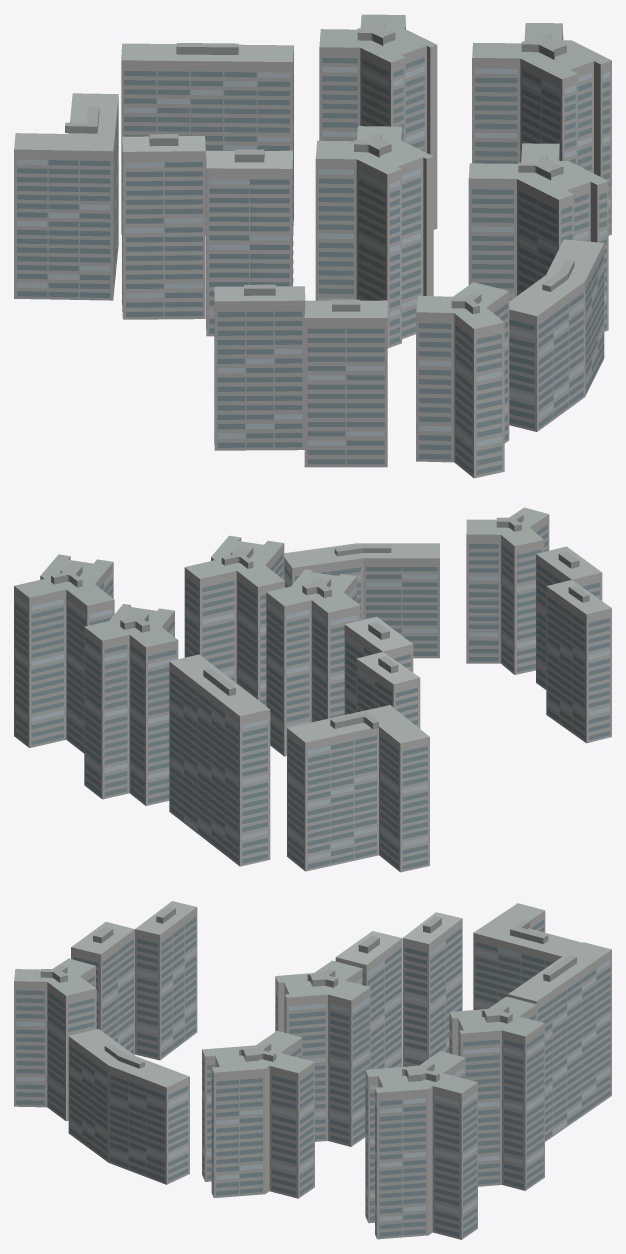
File: apt-a15679107.glb
3 views of the same model, one above another, from view 1: azimuth 30°, elevation 25°; view 2: azimuth 150°, elevation 25°; view 3: azimuth 270°, elevation 25° (orthographic). The views are drawn at different scales.
Parts seen in each view (by area): view 1: apt-a15679107; view 2: apt-a15679107; view 3: apt-a15679107.
Part boxes in pixels (x1,y1,x2,y2): apt-a15679107: [14, 14, 611, 478]; apt-a15679107: [14, 507, 611, 872]; apt-a15679107: [14, 901, 611, 1239].
Bounding box in the file's own units: 171 × 60 × 202.
